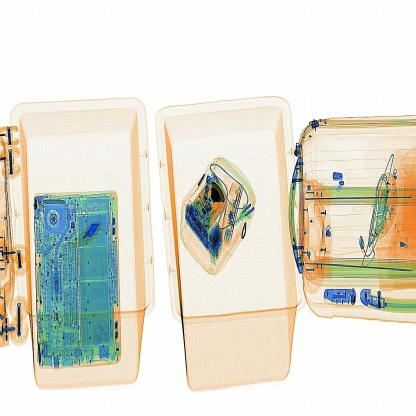pliers: (68, 211, 108, 253)
